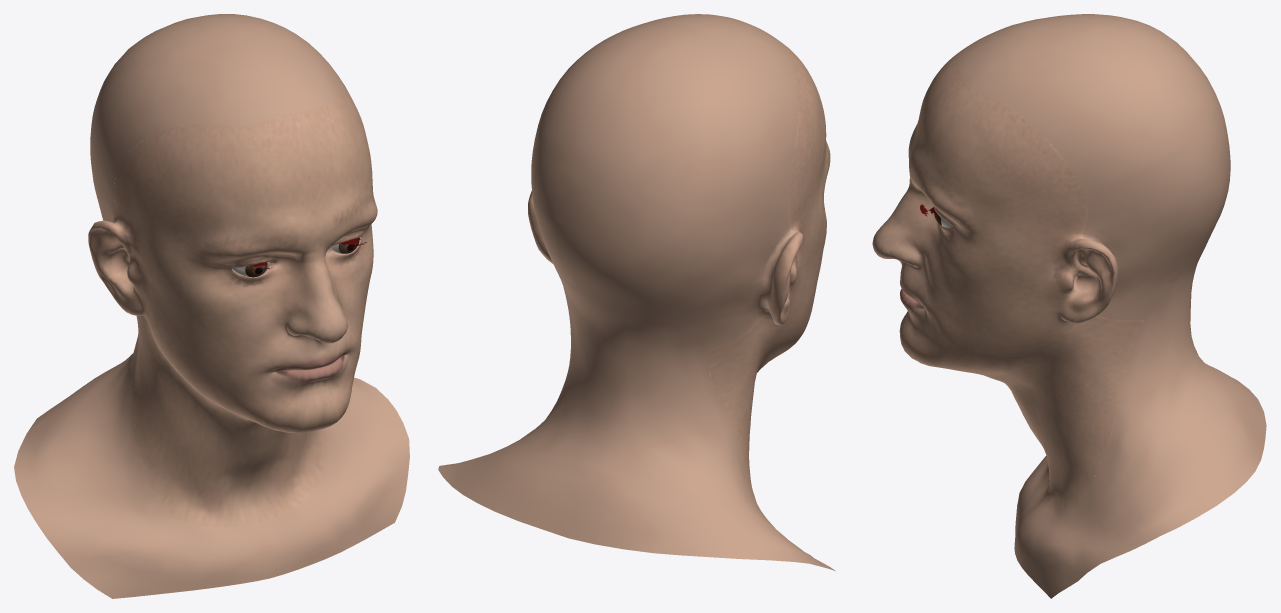
Rendered from headM.glb.
The picture shows the model from 3 angles, left to right: view 1: azimuth 30°, elevation 25°; view 2: azimuth 150°, elevation 25°; view 3: azimuth 270°, elevation 25°; orthographic projection. The views are drawn at different scales.
Parts seen in each view (by area): view 1: head; view 2: head; view 3: head.
Part boxes in pixels (x1=…): head: x1=14, y1=14, x2=409, y2=598; head: x1=438, y1=14, x2=835, y2=571; head: x1=872, y1=14, x2=1266, y2=598.
Size of what is drawn, in the model's own units: 0.2678 by 0.3651 by 0.2562.
Materials: 11 (4 with a texture image).
